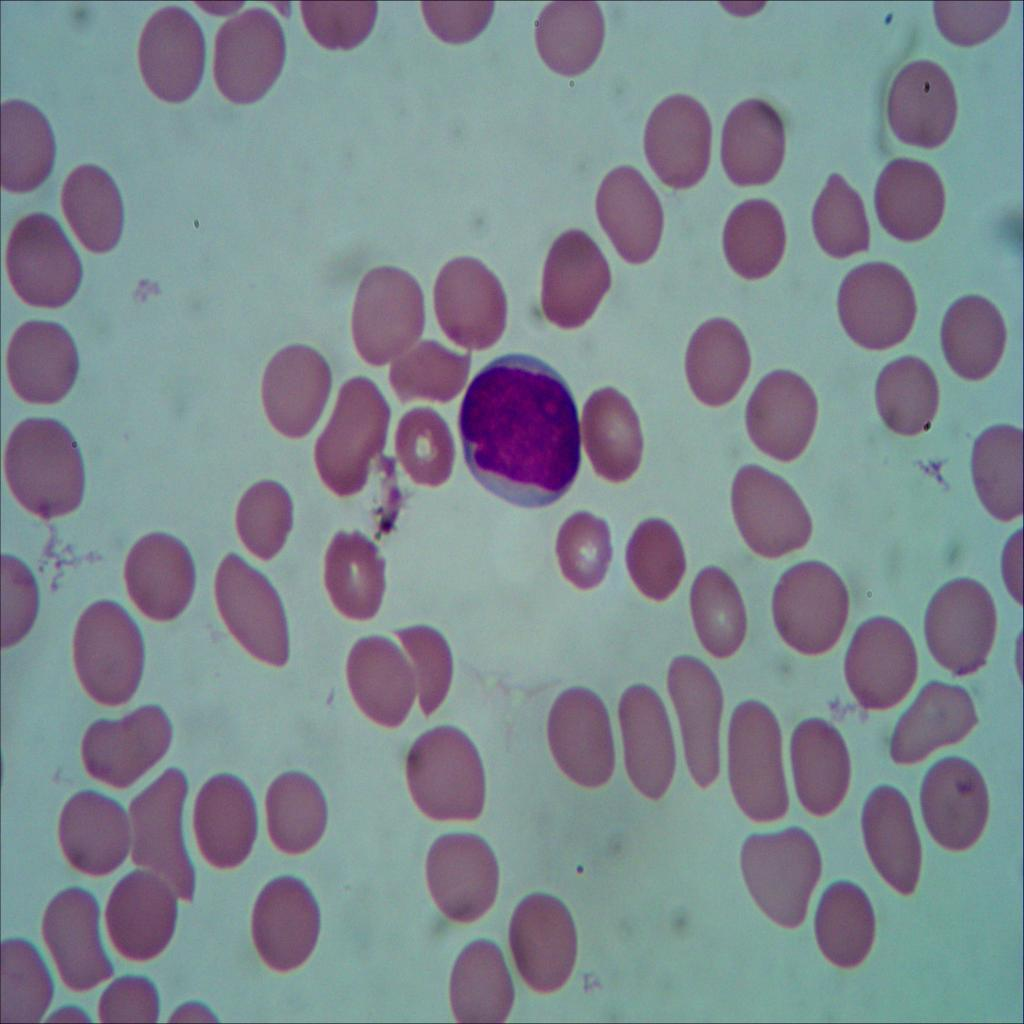Eritrosit: (121, 760, 200, 906), (300, 374, 388, 500), (213, 549, 297, 669), (734, 816, 820, 928), (505, 886, 588, 1002), (420, 820, 504, 931), (7, 417, 92, 526), (731, 455, 819, 560), (63, 596, 146, 706), (32, 882, 117, 989), (76, 695, 176, 785), (591, 158, 670, 270), (724, 692, 788, 830), (203, 5, 290, 106), (534, 225, 616, 330), (614, 677, 678, 809), (888, 677, 979, 768), (180, 771, 268, 864), (832, 256, 919, 350), (431, 249, 510, 352), (860, 780, 928, 899), (843, 609, 923, 710), (345, 260, 424, 362), (250, 872, 326, 978), (408, 724, 488, 824), (101, 863, 180, 964), (120, 528, 202, 625), (924, 576, 999, 682), (773, 560, 850, 661), (882, 54, 961, 152), (546, 684, 616, 790), (60, 776, 134, 876), (745, 364, 819, 464), (4, 214, 89, 301), (784, 706, 852, 814), (640, 86, 710, 190), (667, 655, 720, 791), (60, 162, 133, 260), (130, 4, 200, 106), (918, 752, 988, 854), (526, 0, 611, 84), (321, 523, 392, 623), (716, 98, 787, 195), (444, 934, 520, 1024), (869, 156, 948, 242), (623, 510, 690, 610), (716, 197, 790, 287), (585, 384, 649, 488), (937, 290, 1007, 385), (2, 310, 79, 396), (685, 310, 750, 410), (348, 639, 417, 733), (812, 880, 881, 974), (260, 764, 330, 855), (874, 350, 943, 442), (394, 325, 470, 408), (687, 563, 753, 658), (963, 422, 1024, 522), (0, 97, 58, 201), (229, 472, 297, 560), (393, 617, 454, 715), (808, 170, 872, 260), (264, 344, 329, 430), (559, 502, 611, 596), (6, 936, 56, 1024)
Limfoblast: (460, 352, 579, 510)
Platelet: (880, 8, 899, 32)
